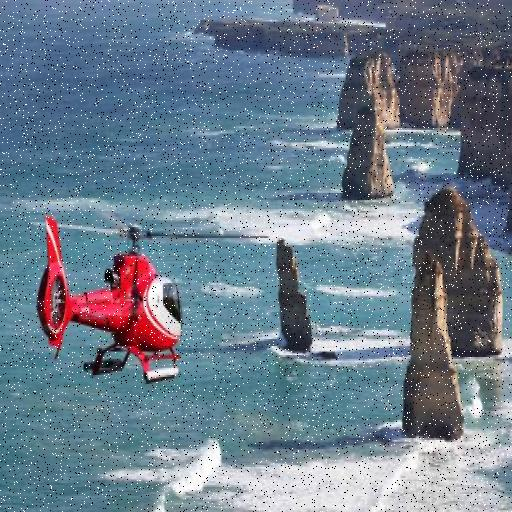helicopter: (26, 200, 268, 404)
